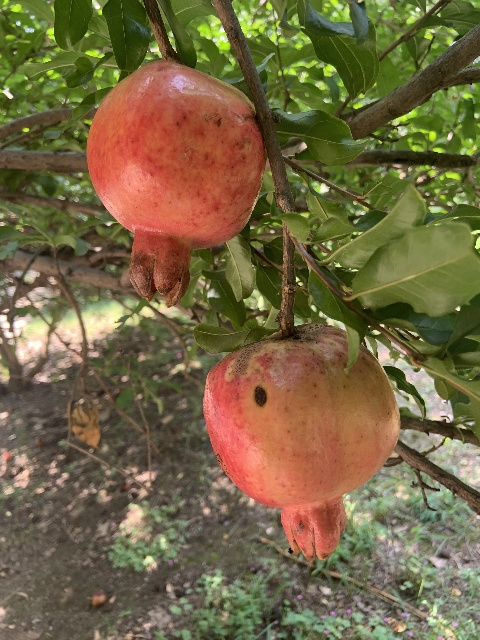ripe: (203, 323, 400, 564), (86, 60, 264, 309)
